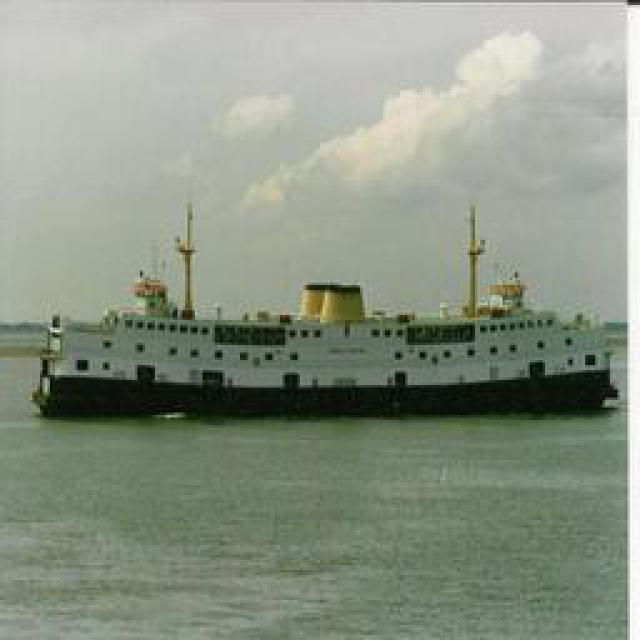Ship: (25, 206, 633, 419)
